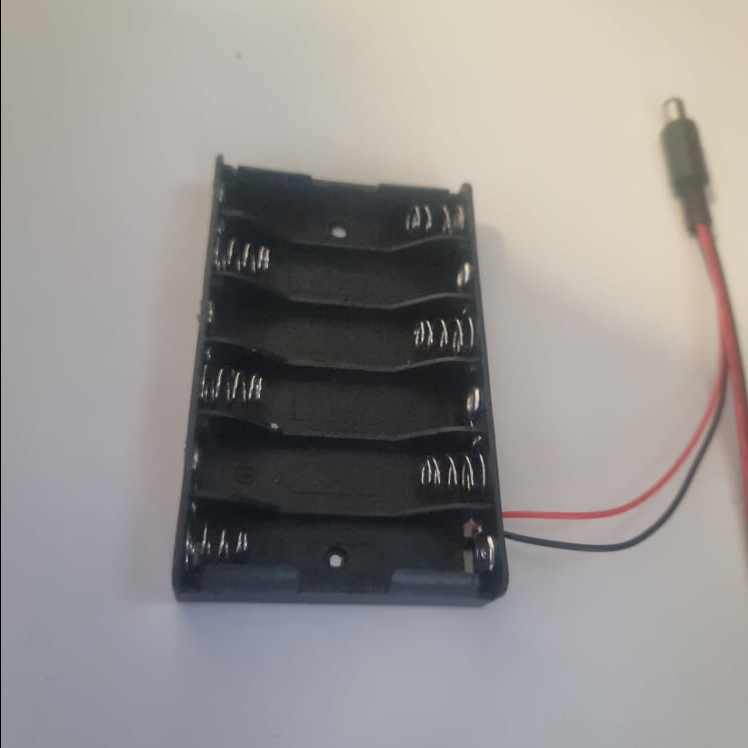BATTERY BOX: (168, 154, 509, 606)
